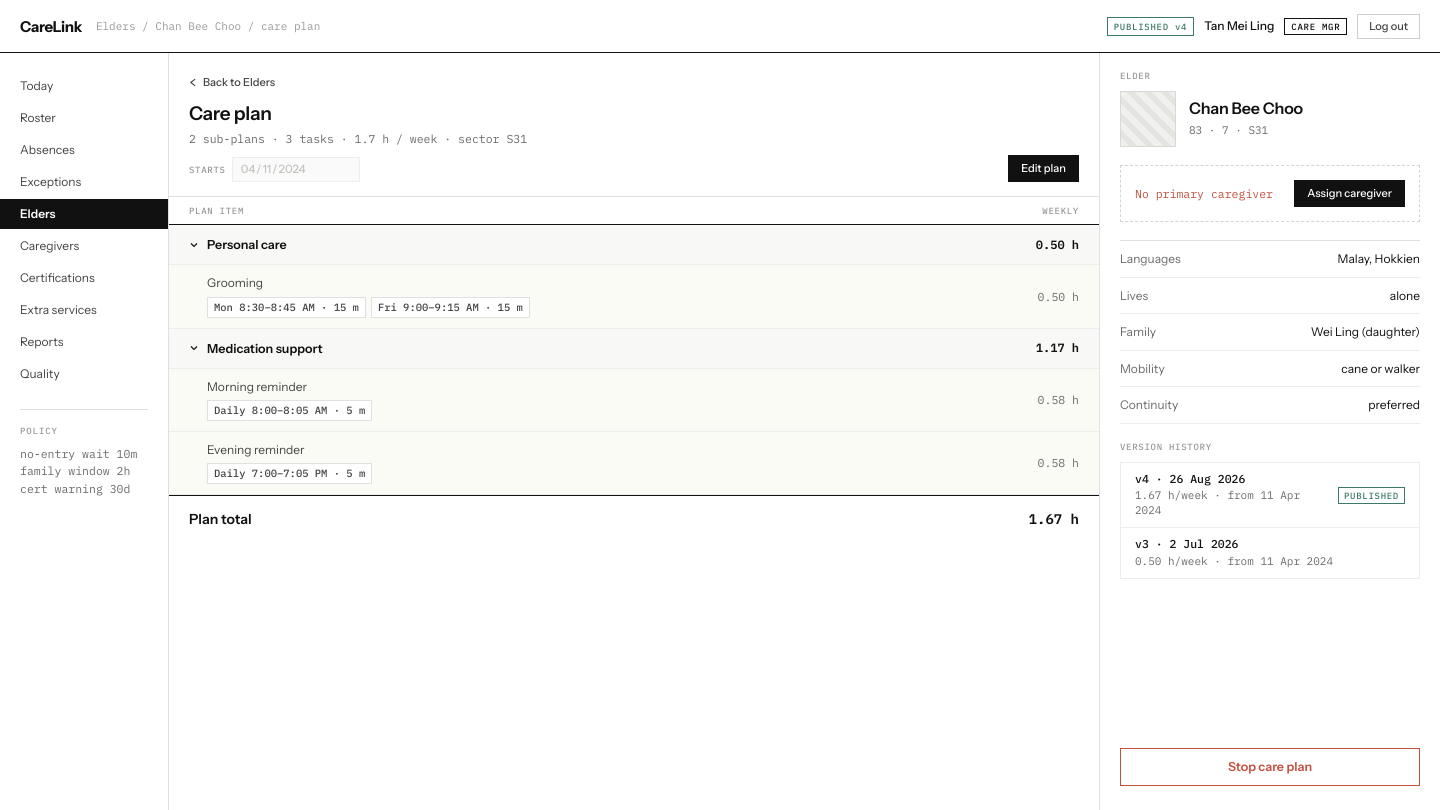
Test: removes a task at once, without a confirmation
This screenshot has width=1440, height=810.
Click the button "Edit plan" at [1044, 169], box 1008,155 -> 1079,182
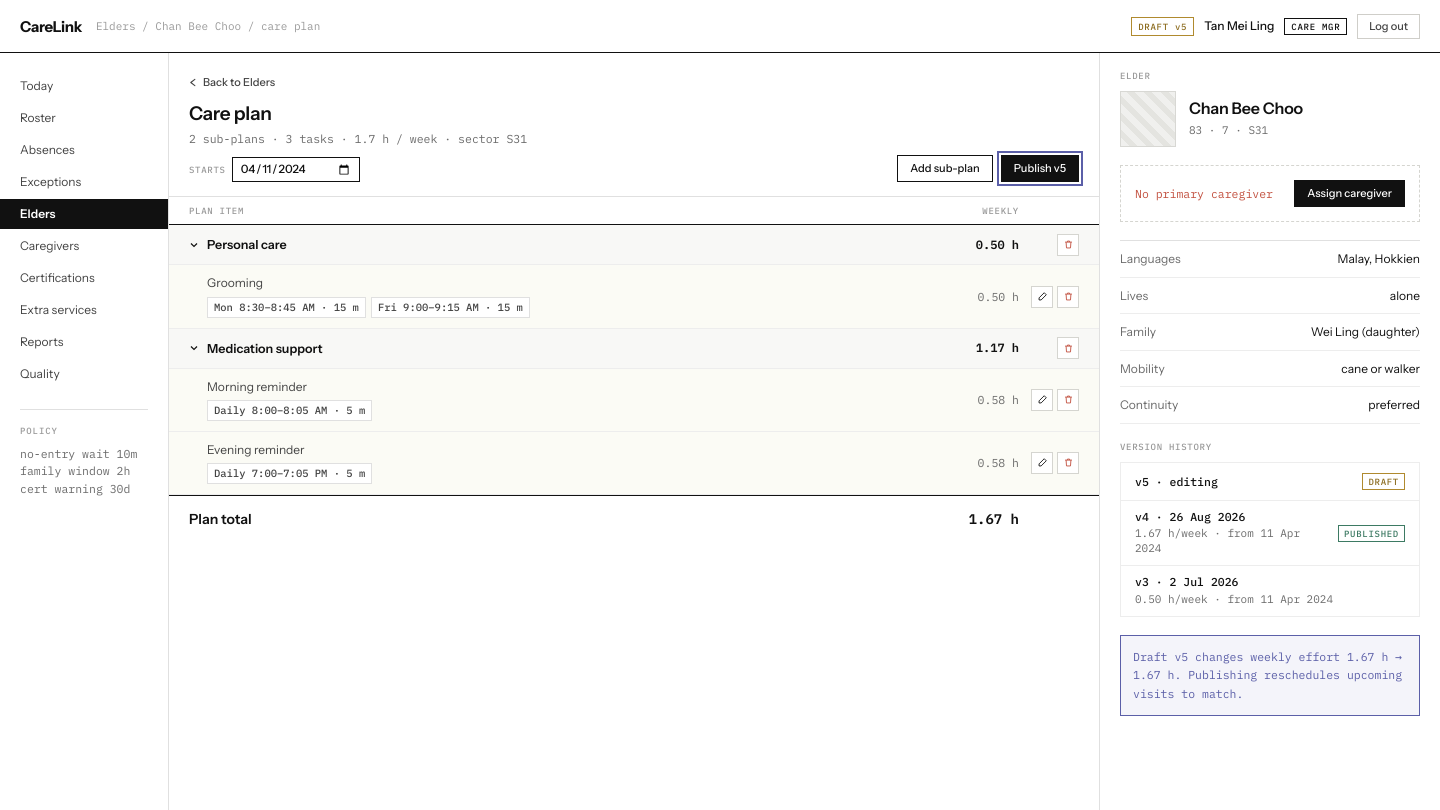
Click the button named "Remove task from sub-plan" in the row of "Daily 8:00–8:05 AM · 5 m" at [1068, 400], box 1057,389 -> 1079,411
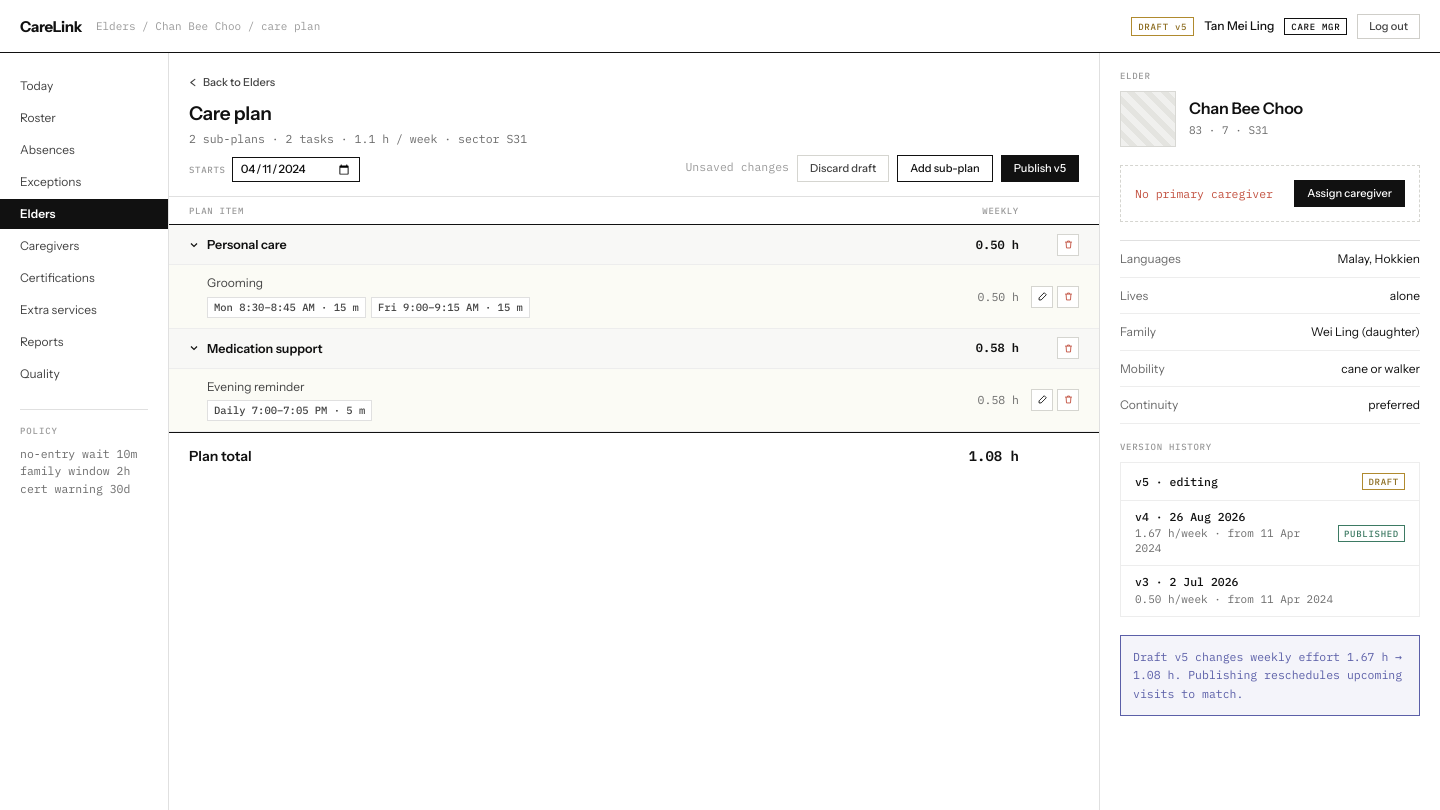
Check: the text "Evening reminder" is shown, box 207,379 -> 305,394
Check: the text "Morning reminder" is gone
